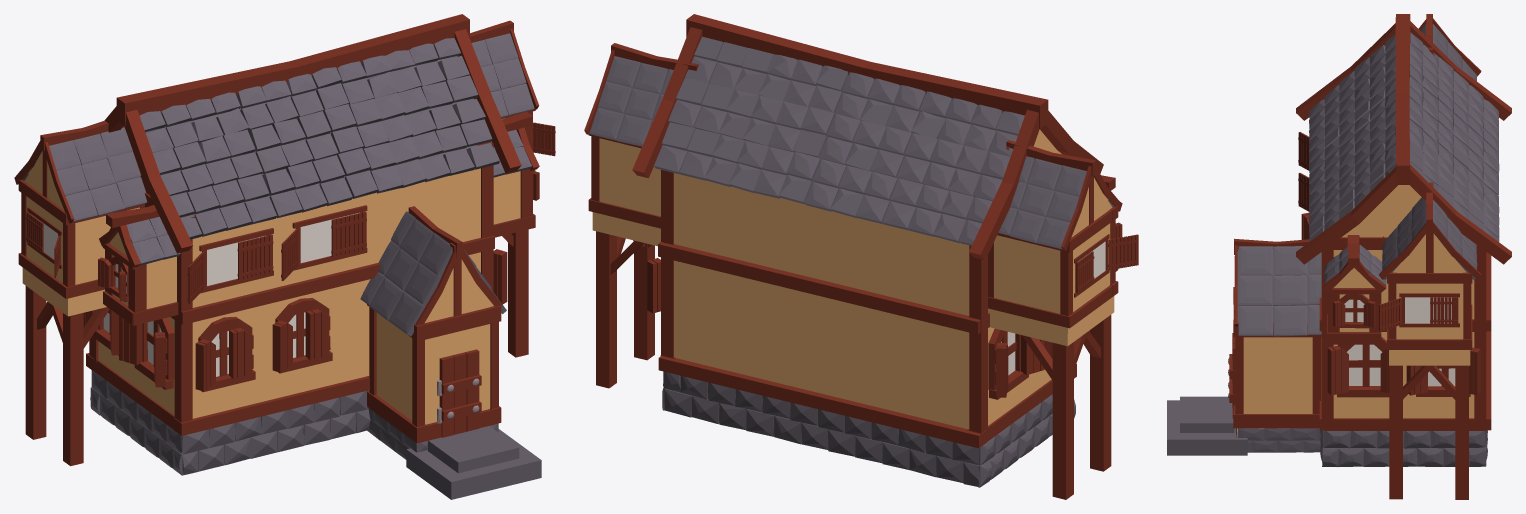
File: House_of_commerce.fbx
The picture shows the model from 3 angles, left to right: view 1: azimuth 30°, elevation 25°; view 2: azimuth 150°, elevation 25°; view 3: azimuth 270°, elevation 25°; orthographic projection. The views are drawn at different scales.
Parts seen in each view (by area): view 1: Дом уютный; view 2: Дом уютный; view 3: Дом уютный.
Part boxes in pixels (box(x1,y1,x2,y2)): Дом уютный: box(14, 14, 555, 499); Дом уютный: box(584, 14, 1138, 499); Дом уютный: box(1167, 14, 1511, 499).
Bounding box in the file's own units: 646 × 433 × 429.
